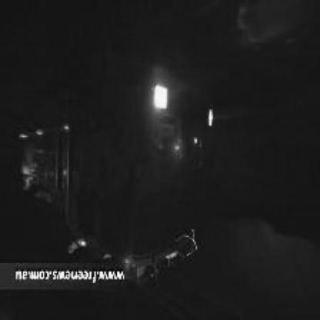other: (63, 122, 73, 140)
